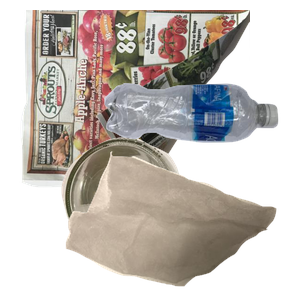glass: (59, 135, 254, 300)
paper: (18, 10, 258, 190)
plastic: (102, 81, 300, 216)
trash: (63, 149, 300, 300)
